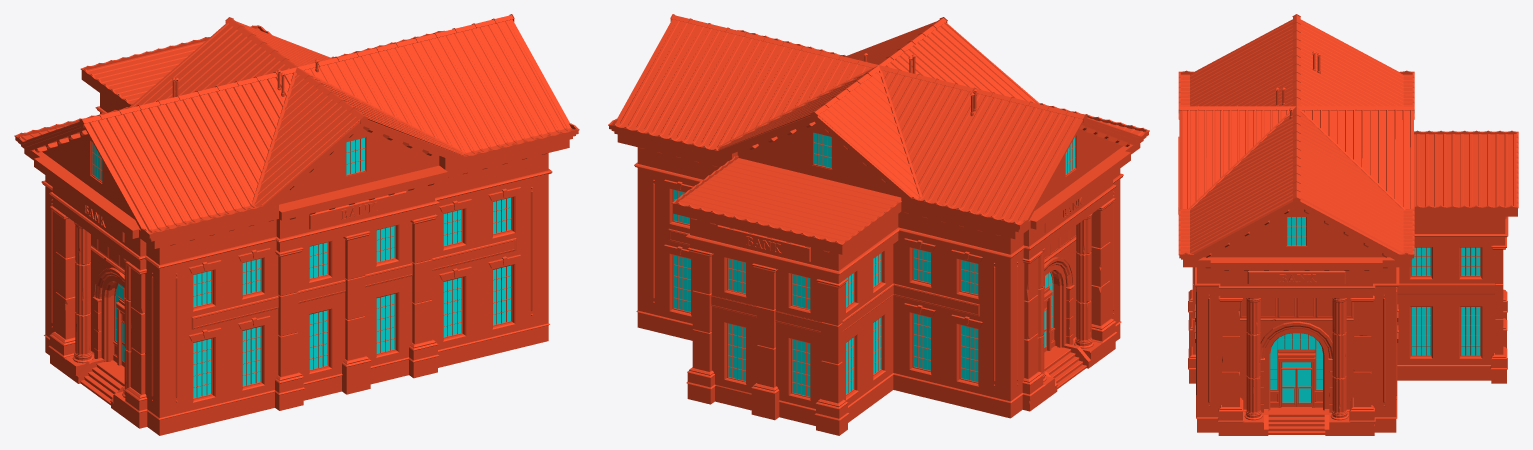
The model's file is SM_Bank_City.fbx.
3 views of the same model, side by side, from view 1: azimuth 30°, elevation 25°; view 2: azimuth 150°, elevation 25°; view 3: azimuth 270°, elevation 25° (orthographic). The views are drawn at different scales.
Parts seen in each view (by area): view 1: SM_Bank_City_Base; view 2: SM_Bank_City_Base; view 3: SM_Bank_City_Base, SM_Bank_City_Door_L_A, SM_Bank_City_Door_R_A.
Boxes of the visible parts, bbox=[...] form: SM_Bank_City_Base: bbox=[14, 14, 579, 435]; SM_Bank_City_Base: bbox=[608, 14, 1149, 435]; SM_Bank_City_Base: bbox=[1178, 14, 1518, 435]; SM_Bank_City_Door_L_A: bbox=[1296, 368, 1311, 406]; SM_Bank_City_Door_R_A: bbox=[1281, 368, 1296, 406].
Size of the model in its own units: 28.5 by 18.24 by 22.36.
